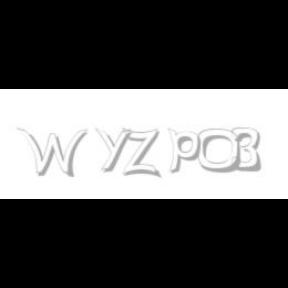3: (232, 128, 262, 172)
O: (196, 128, 242, 174)
W: (16, 128, 88, 178)
Z: (122, 128, 160, 178)
p: (168, 128, 204, 174)
y: (95, 128, 135, 172)
